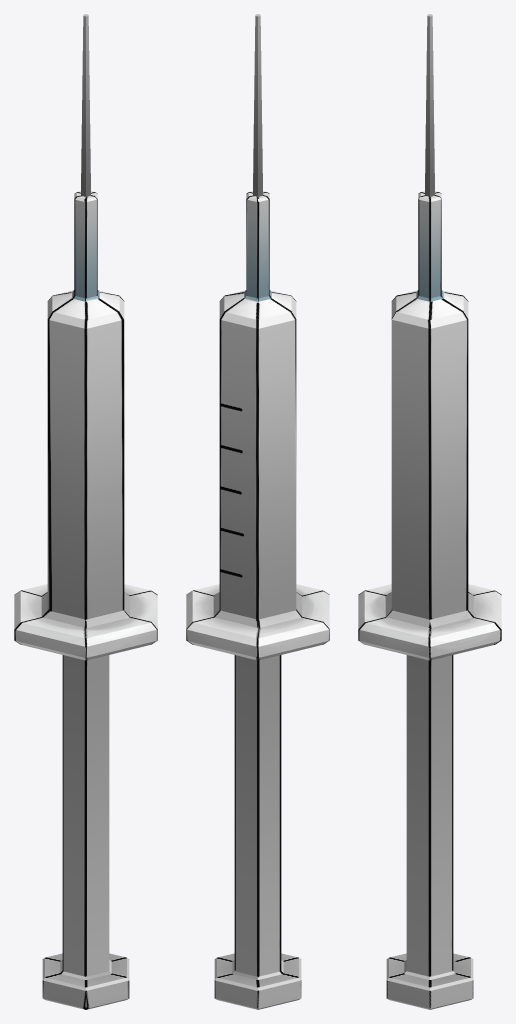
Rendered from syringe.glb.
3 renders of one model, left to right at view 1: azimuth 30°, elevation 25°; view 2: azimuth 150°, elevation 25°; view 3: azimuth 270°, elevation 25°, orthographic.
Visible parts, largest first — view 1: JeringaLP, JeringaLP_Interior; view 2: JeringaLP, JeringaLP_Interior; view 3: JeringaLP, JeringaLP_Interior.
Part boxes in pixels (x1=…): JeringaLP: x1=14, y1=14, x2=157, y2=660; JeringaLP_Interior: x1=42, y1=655, x2=129, y2=1009; JeringaLP: x1=186, y1=14, x2=329, y2=660; JeringaLP_Interior: x1=214, y1=655, x2=301, y2=1009; JeringaLP: x1=358, y1=14, x2=501, y2=660; JeringaLP_Interior: x1=386, y1=655, x2=473, y2=1009.
Size of the model in its own units: 2.48 by 16.12 by 2.14.
2 materials, 2 textured.
